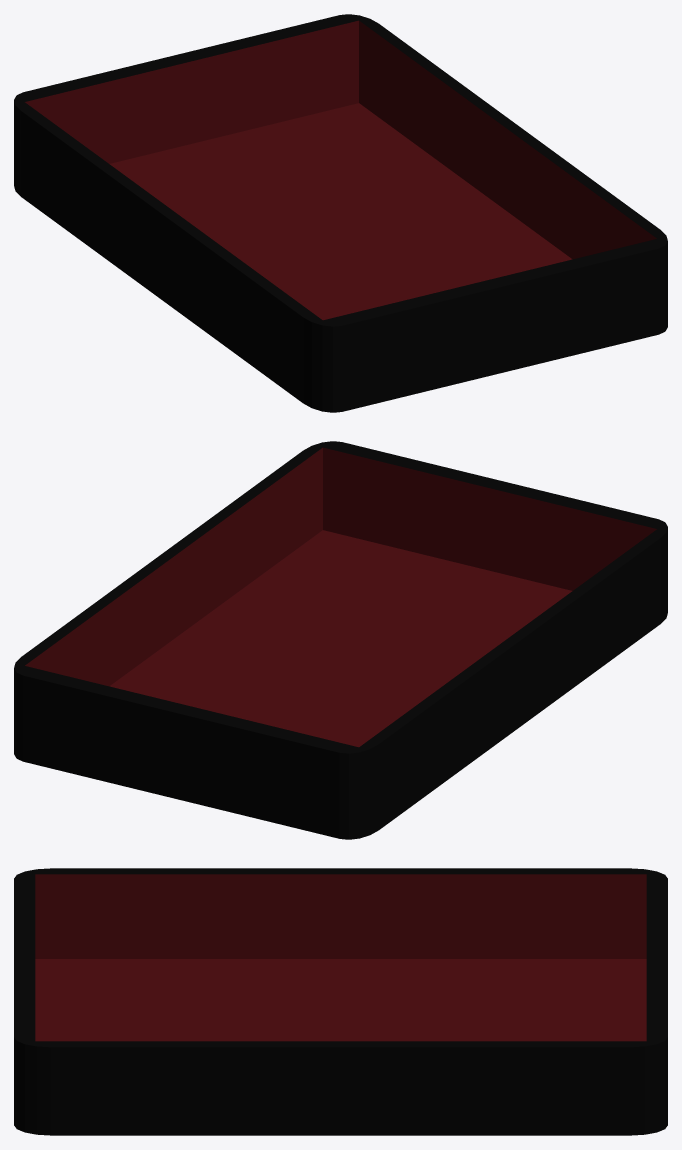
The model's file is Bento_Box.fbx.
3 renders of one model, top to bottom at view 1: azimuth 30°, elevation 25°; view 2: azimuth 150°, elevation 25°; view 3: azimuth 270°, elevation 25°, orthographic. The views are drawn at different scales.
Visible parts, largest first — view 1: Bento_Box; view 2: Bento_Box; view 3: Bento_Box.
Part boxes in pixels (x1,y1,x2,y2): Bento_Box: (14, 14, 667, 412); Bento_Box: (14, 441, 667, 839); Bento_Box: (14, 868, 667, 1135).
Bounding box in the file's own units: 0.2863 × 0.0664 × 0.4422.
